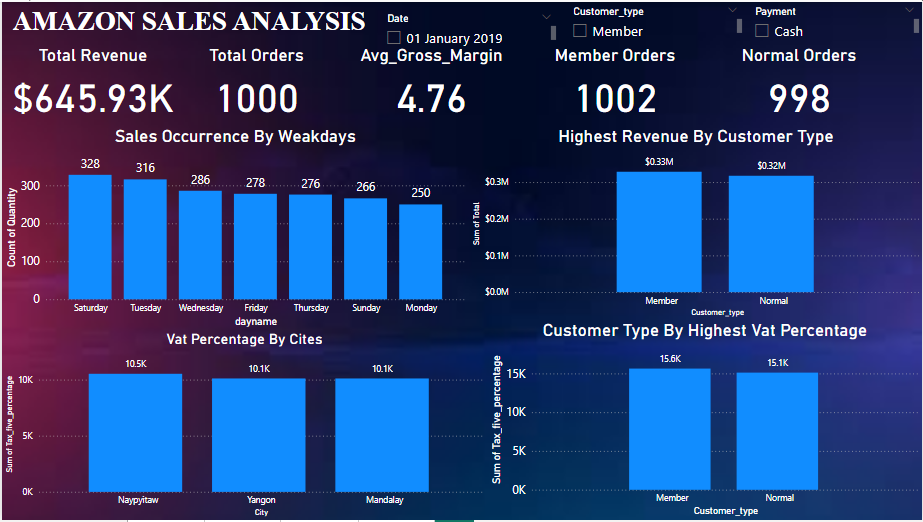

What the dashboard file says about the page in this screenshot:
{"tool":"powerbi","page":{"name":" Page 3","canvas":[1280,720],"ordinal":2},"visuals":[{"type":"textbox","box":[10.2,0,562.1,59.3],"z":0},{"type":"card","title":"Total Revenue","fields":{"Values":["Sum(sql_capstone_project project.Total)"]},"box":[0,59.8,253,112.6],"z":1000},{"type":"slicer","fields":{"Values":["sql_capstone_project project.Payment"]},"box":[1034.1,0,246,69.5],"z":2000},{"type":"card","title":"Total Orders","fields":{"Values":["Count(sql_capstone_project project.Invoice_ID)"]},"box":[253,59.8,201.5,112.6],"z":3000},{"type":"card","title":"Avg_Gross_Margin","fields":{"Values":["Avg(sql_capstone_project project.gross_margin_percentage)"]},"box":[467,59.8,259.9,112.6],"z":4000},{"type":"card","title":"Member Orders","fields":{"Values":["sql_capstone_project project.Member Orders"]},"box":[736.7,59.8,230.7,112.6],"z":5000},{"type":"card","title":"Normal Orders","fields":{"Values":["sql_capstone_project project.Normal Orders"]},"box":[992.4,59.8,230.7,112.6],"z":6000},{"type":"columnChart","title":"Sales Occurrence By Weakdays","fields":{"Category":["sql_capstone_project project.dayname"],"Y":["CountNonNull(sql_capstone_project project.Quantity)"]},"box":[0,172.4,649.1,283.6],"z":7000},{"type":"columnChart","title":"Highest Revenue By Customer Type","fields":{"Category":["sql_capstone_project project.Customer_type"],"Y":["Sum(sql_capstone_project project.Total)"]},"box":[649.1,172.4,631,269.7],"z":8000},{"type":"columnChart","title":"Vat Percentage By Cites","fields":{"Y":["Sum(sql_capstone_project project.Tax_five_percentage)"],"Category":["sql_capstone_project project.City"]},"box":[0,455.9,674.1,264.1],"z":9000},{"type":"columnChart","title":"Customer Type By Highest Vat Percentage","fields":{"Y":["Sum(sql_capstone_project project.Tax_five_percentage)"],"Category":["sql_capstone_project project.Customer_type"]},"box":[674.1,442,606,278],"z":10000},{"type":"slicer","fields":{"Values":["sql_capstone_project project.Customer_type"]},"box":[781.2,0,253,59.8],"z":11000},{"type":"slicer","fields":{"Values":["sql_capstone_project project.Date"]},"box":[522.9,10,253,59.8],"z":12000}]}

Visuals, with their boxes in screenshot pixels (x1, y1, x2, y2), scaled from the page's 1280x720 canvas onto the 923x522 screenshot:
textbox: 7:0:413:43
"Total Revenue" card: 0:43:182:125
slicer - sql_capstone_project project.Payment: 746:0:922:50
"Total Orders" card: 182:43:328:125
"Avg_Gross_Margin" card: 337:43:524:125
"Member Orders" card: 531:43:698:125
"Normal Orders" card: 716:43:882:125
"Sales Occurrence By Weakdays" columnChart: 0:125:468:331
"Highest Revenue By Customer Type" columnChart: 468:125:922:321
"Vat Percentage By Cites" columnChart: 0:331:486:521
"Customer Type By Highest Vat Percentage" columnChart: 486:320:922:521
slicer - sql_capstone_project project.Customer_type: 563:0:746:43
slicer - sql_capstone_project project.Date: 377:7:559:51
